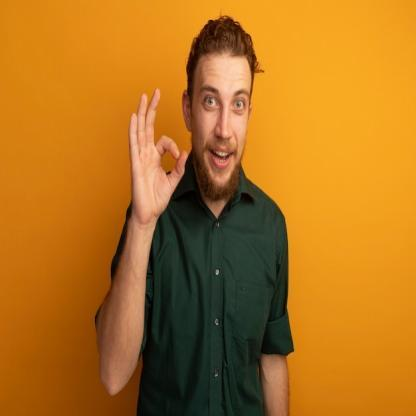ok: (126, 83, 190, 227)
